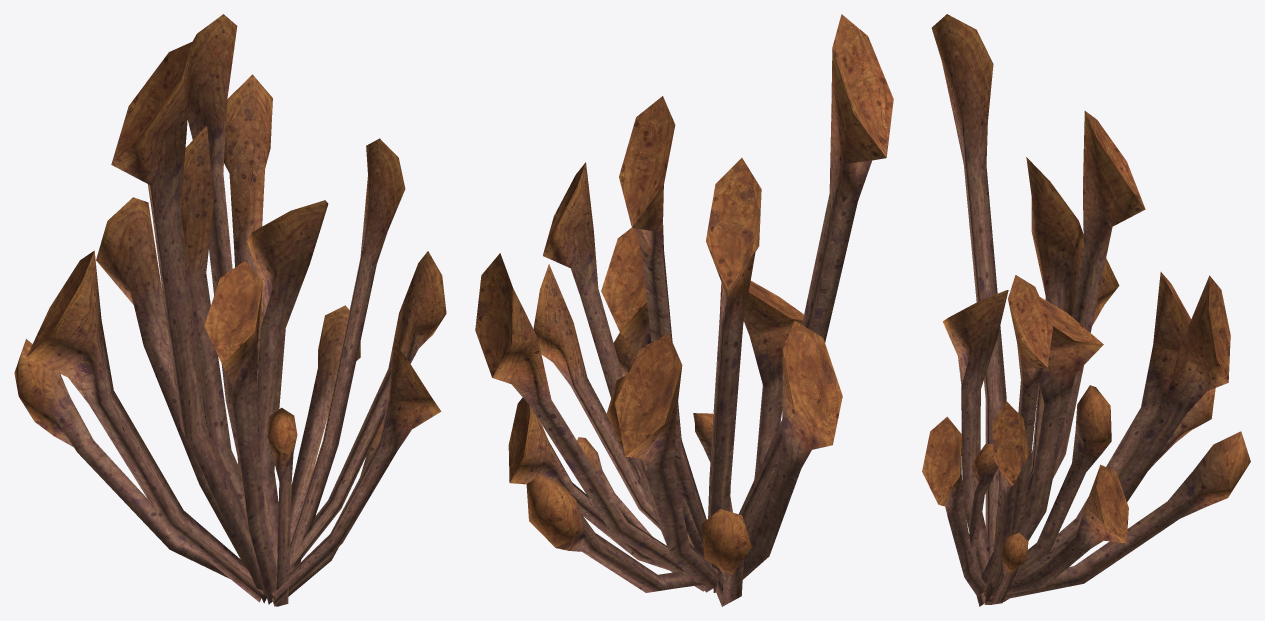
The model's file is Shroom_Plant2_2_L2.fbx.
3 views of the same model, side by side, from view 1: azimuth 30°, elevation 25°; view 2: azimuth 150°, elevation 25°; view 3: azimuth 270°, elevation 25° (orthographic). The views are drawn at different scales.
Visible parts, largest first — view 1: polySurface288; view 2: polySurface288; view 3: polySurface288.
Part boxes in pixels (<box>): polySurface288: <box>14,14,446,606</box>; polySurface288: <box>475,14,893,606</box>; polySurface288: <box>922,14,1250,606</box>.
Size of the model in its own units: 79.37 by 128 by 70.04.
